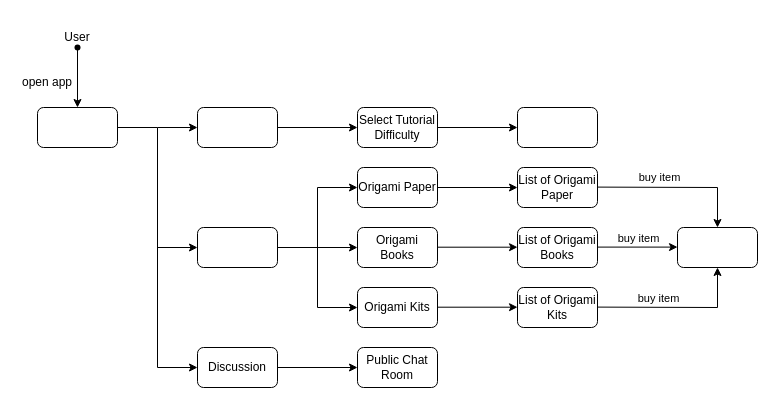
The diagram is 775 pixels wide and 405 high, and some of its shapes have lost their labels. The box of each missing label's shape, as (x1, y1, x2, y2) in pixels:
Leave App to go to Linked Product: (676, 226, 758, 268)
Main Page: (36, 106, 118, 148)
Products: (196, 226, 278, 268)
Select Project: (516, 106, 598, 148)
Tutorials: (196, 106, 278, 148)
